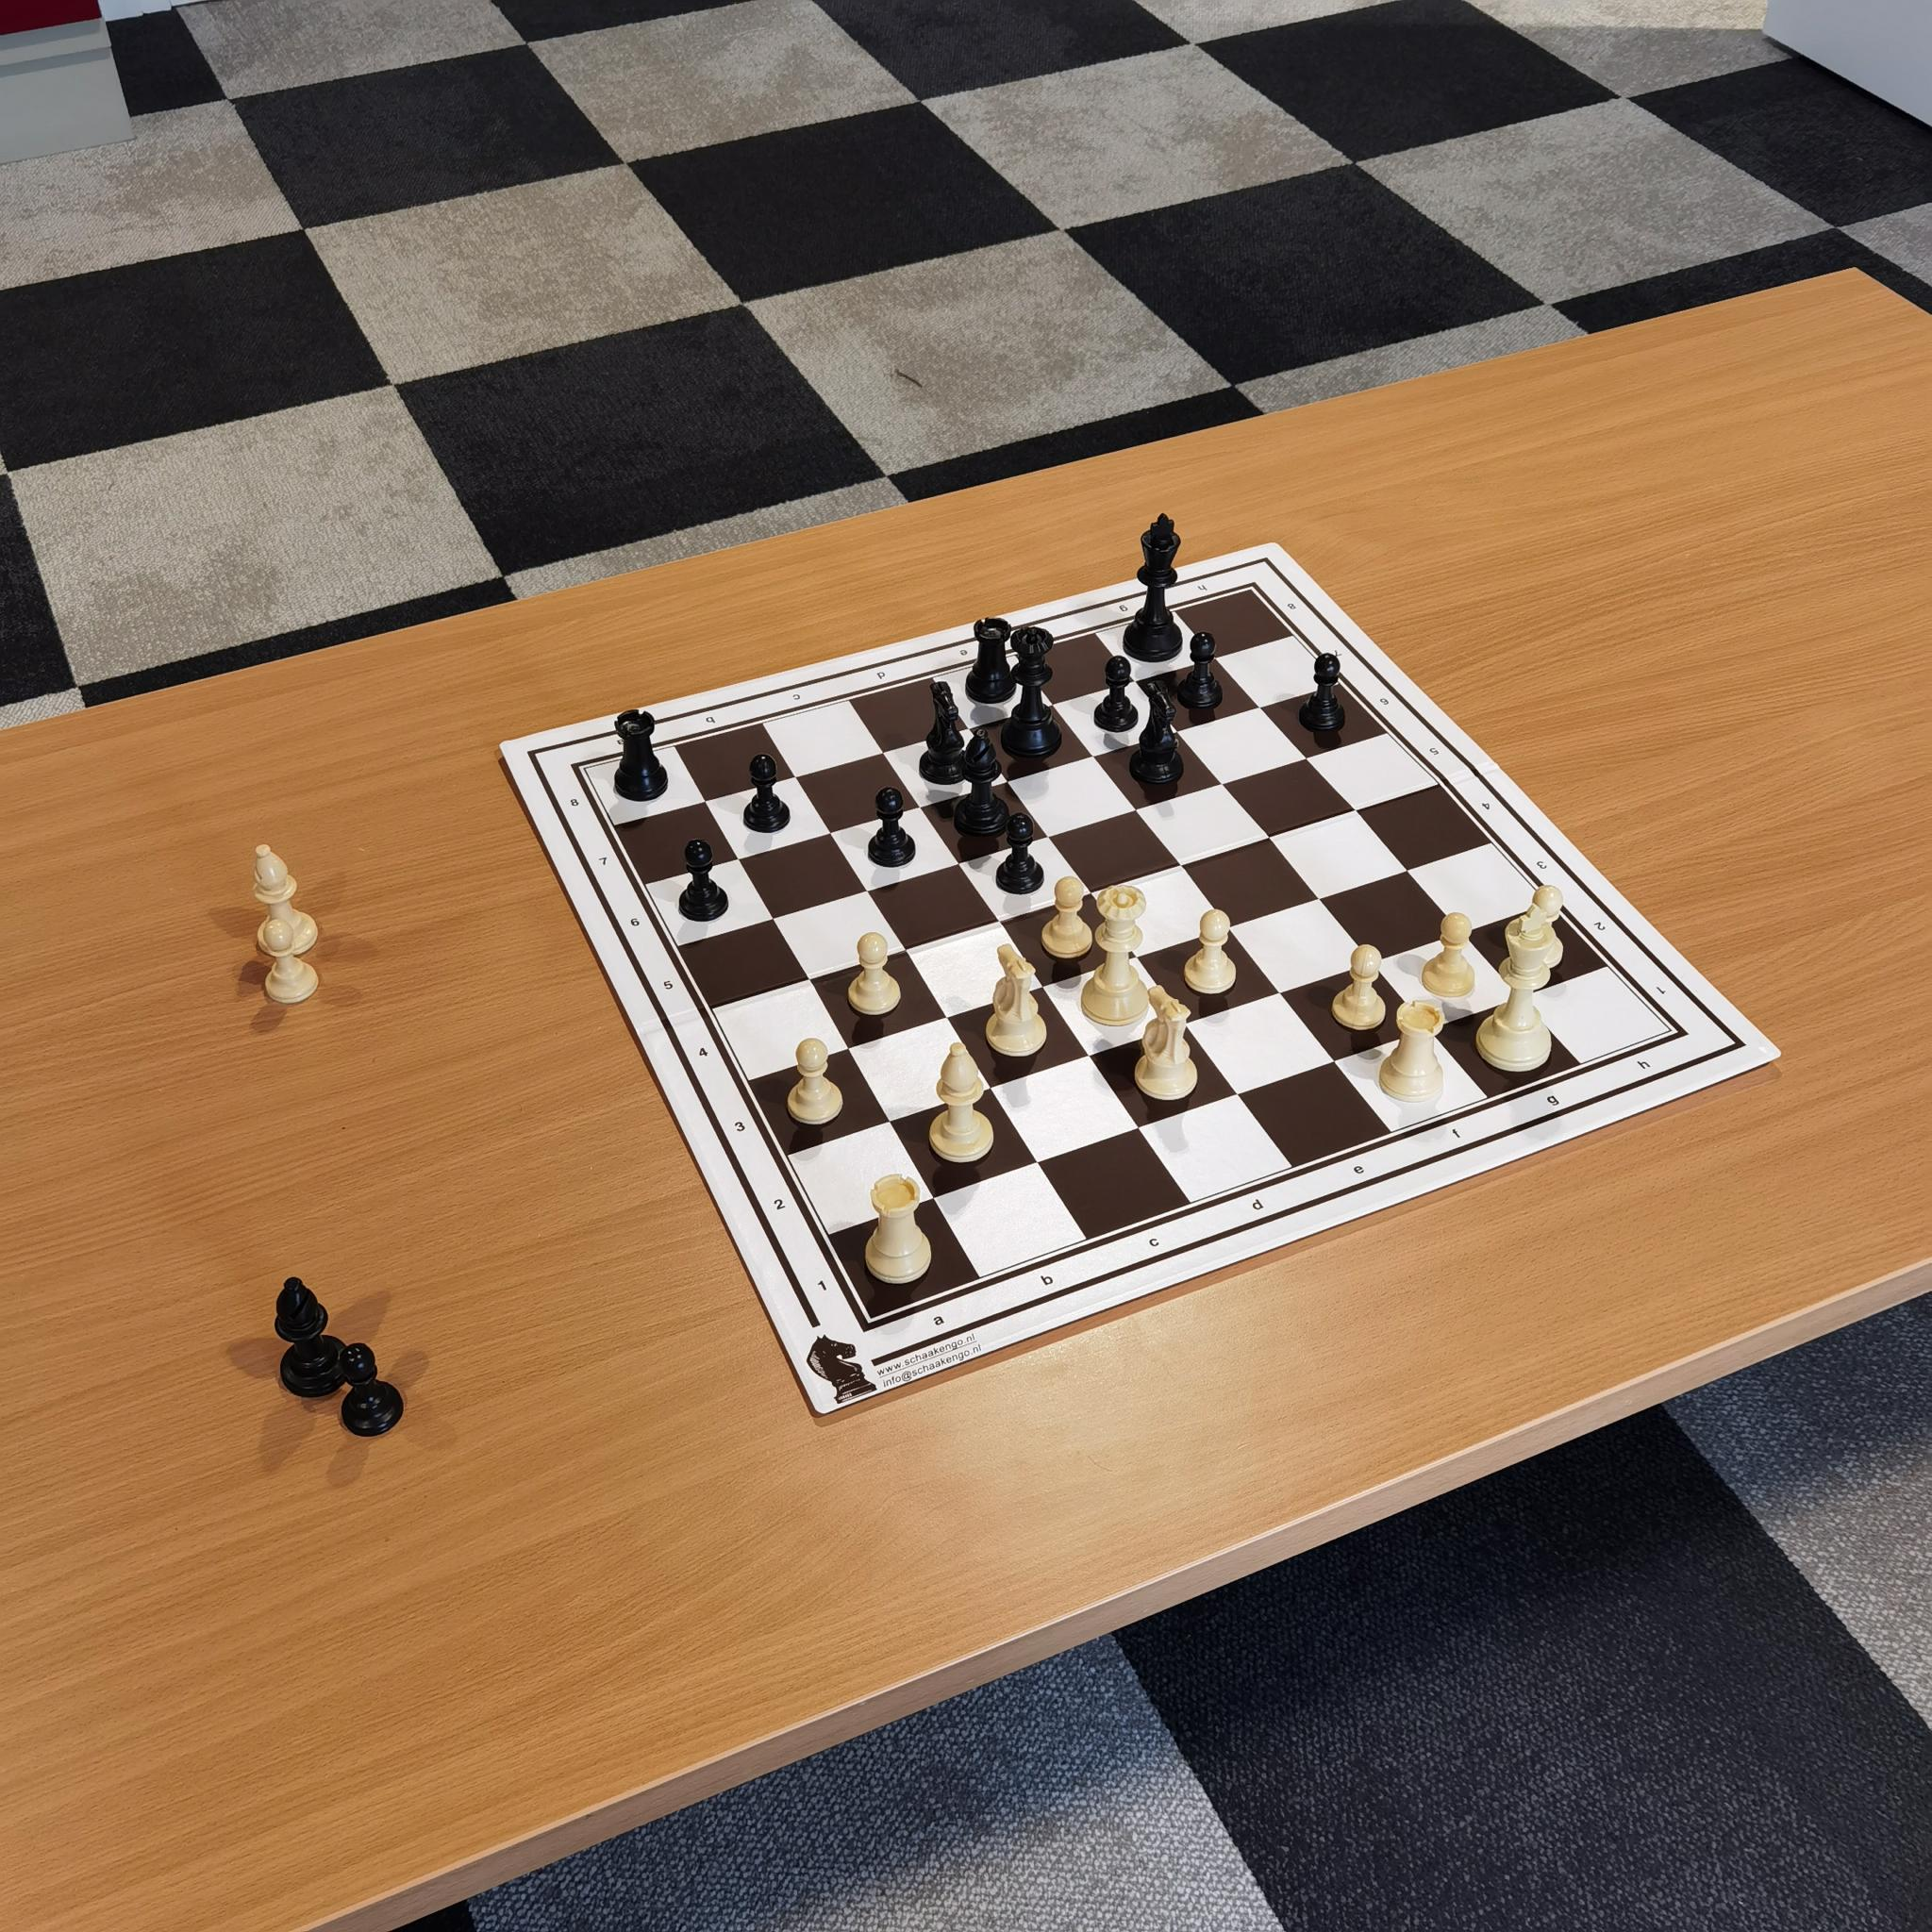corners: (1660, 1019, 1706, 1056), (856, 1295, 892, 1341), (559, 755, 598, 786), (1237, 573, 1272, 605)
eight: (561, 782, 591, 823), (1277, 589, 1309, 621)
one: (1644, 971, 1681, 1008), (812, 1269, 839, 1300)
